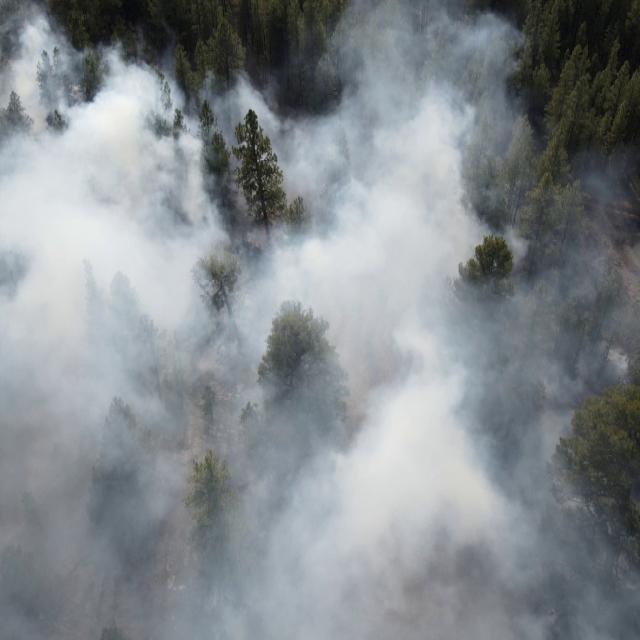smoke: (290, 0, 536, 640), (53, 77, 288, 640), (535, 141, 640, 640), (0, 0, 53, 640), (54, 41, 182, 77)
